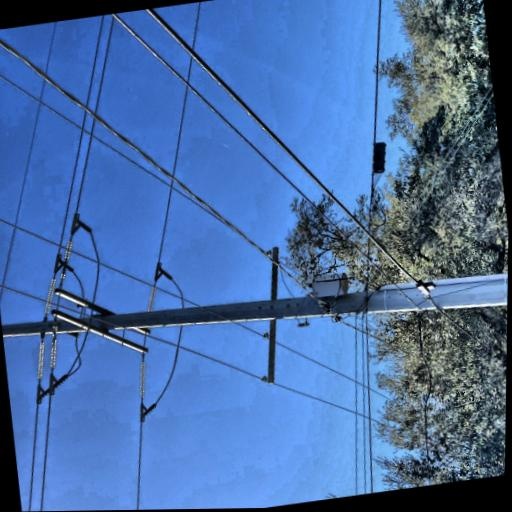insulator: (59, 420, 68, 433), (20, 420, 29, 430), (134, 424, 142, 434)
pole: (3, 111, 131, 512)
transformer: (96, 473, 122, 510)
